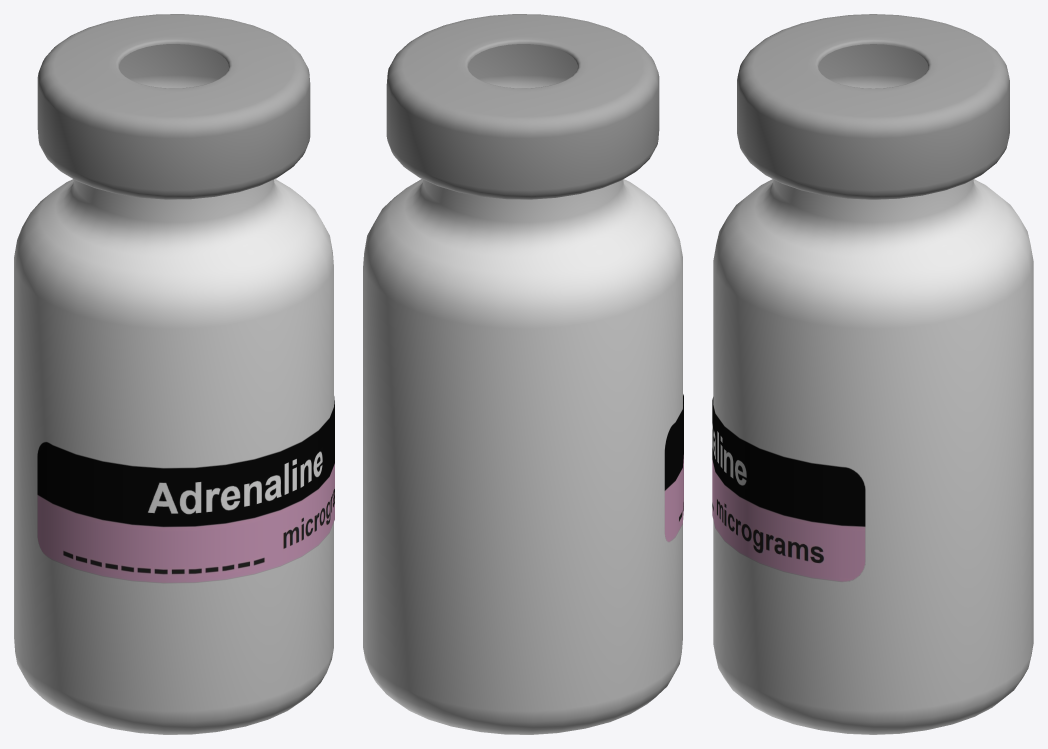
Rendered from frasco_adrenalina.glb.
The picture shows the model from 3 angles, left to right: view 1: azimuth 30°, elevation 25°; view 2: azimuth 150°, elevation 25°; view 3: azimuth 270°, elevation 25°; orthographic projection.
Visible parts, largest first — view 1: Cylinder.002_Glass_0, Cylinder.002_Metal_0, Cylinder.001_Label_0; view 2: Cylinder.002_Glass_0, Cylinder.002_Metal_0, Cylinder.001_Label_0; view 3: Cylinder.002_Glass_0, Cylinder.002_Metal_0, Cylinder.001_Label_0.
Part boxes in pixels (x1=…): Cylinder.002_Glass_0: x1=14, y1=179, x2=333, y2=734; Cylinder.002_Metal_0: x1=37, y1=14, x2=310, y2=199; Cylinder.001_Label_0: x1=37, y1=396, x2=334, y2=583; Cylinder.002_Glass_0: x1=363, y1=179, x2=682, y2=734; Cylinder.002_Metal_0: x1=386, y1=14, x2=659, y2=199; Cylinder.001_Label_0: x1=664, y1=394, x2=683, y2=541; Cylinder.002_Glass_0: x1=713, y1=179, x2=1033, y2=734; Cylinder.002_Metal_0: x1=737, y1=14, x2=1009, y2=199; Cylinder.001_Label_0: x1=712, y1=397, x2=865, y2=581.
Size of the model in its own units: 0.052 by 0.1099 by 0.0518.
Materials: 4 (1 with a texture image).
